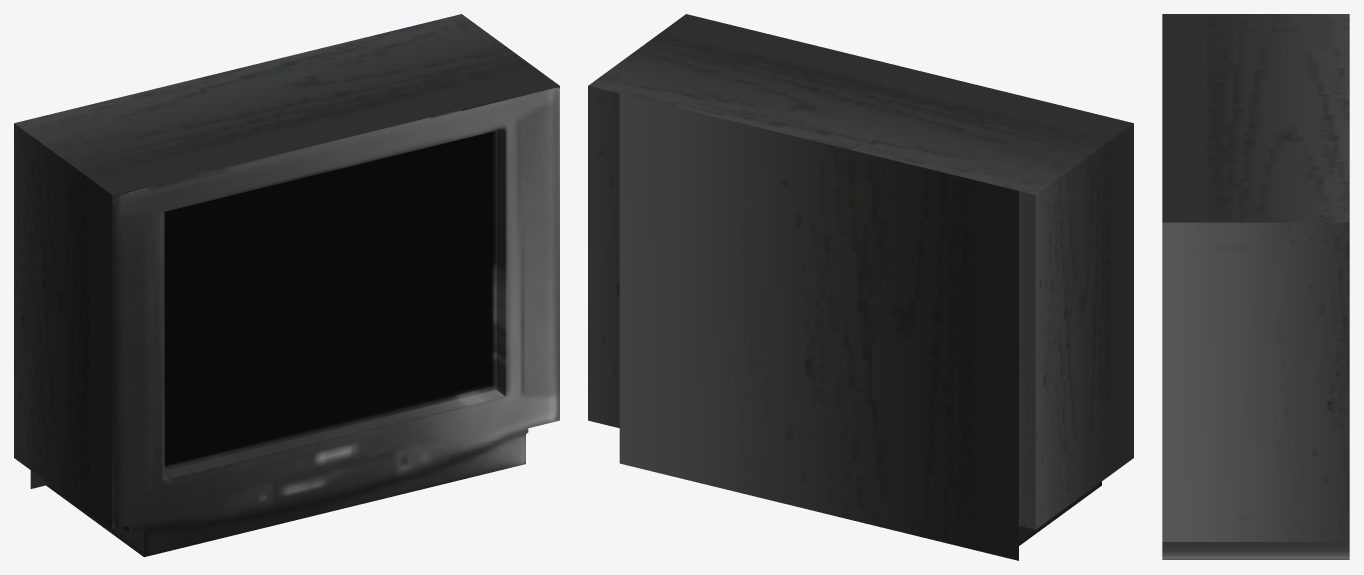
Rendered from old_tv_2.FBX.
The picture shows the model from 3 angles, left to right: view 1: azimuth 30°, elevation 25°; view 2: azimuth 150°, elevation 25°; view 3: azimuth 270°, elevation 25°; orthographic projection. The views are drawn at different scales.
Parts seen in each view (by area): view 1: old_tv_2; view 2: old_tv_2; view 3: old_tv_2.
Boxes of the visible parts, x1=… form: old_tv_2: x1=14, y1=14, x2=559, y2=557; old_tv_2: x1=588, y1=14, x2=1133, y2=560; old_tv_2: x1=1162, y1=14, x2=1349, y2=559.
Bounding box in the file's own units: 65.49 × 51.72 × 24.86.
